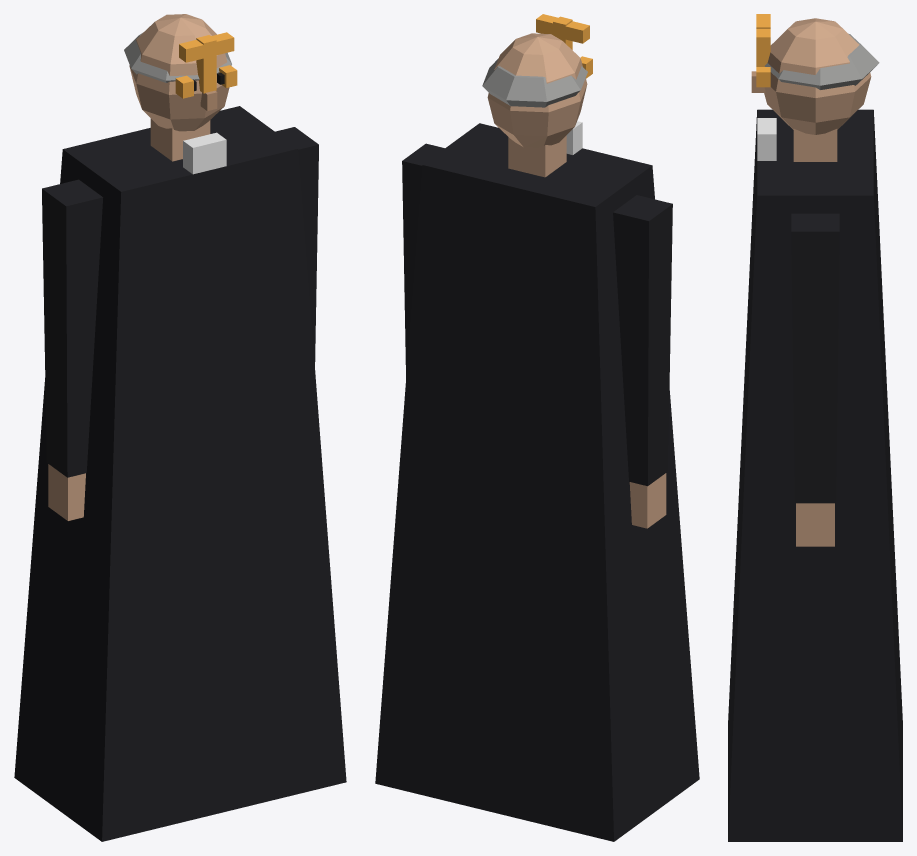
File: parroco.obj
The picture shows the model from 3 angles, left to right: view 1: azimuth 30°, elevation 25°; view 2: azimuth 150°, elevation 25°; view 3: azimuth 270°, elevation 25°; orthographic projection. The views are drawn at different scales.
Visible parts, largest first — view 1: parte_00, parte_02, marchio_06, parte_01, parte_03; view 2: parte_00, parte_02, parte_03, marchio_06; view 3: parte_00, parte_02, parte_03, marchio_06, parte_01.
Boxes of the visible parts, box(x1,y1,x2,y2) form: parte_00: box(14, 106, 346, 841); parte_02: box(48, 14, 229, 520); marchio_06: box(175, 32, 237, 98); parte_01: box(183, 132, 226, 174); parte_03: box(124, 33, 231, 82); parte_00: box(375, 123, 699, 841); parte_02: box(487, 33, 666, 528); parte_03: box(482, 58, 587, 107); marchio_06: box(536, 14, 592, 78); parte_00: box(728, 109, 902, 841); parte_02: box(764, 18, 871, 546); parte_03: box(765, 33, 879, 89); marchio_06: box(756, 14, 770, 87); parte_01: box(757, 118, 776, 160).
Bounding box in the file's own units: 0.6102 × 1.76 × 0.3662.
